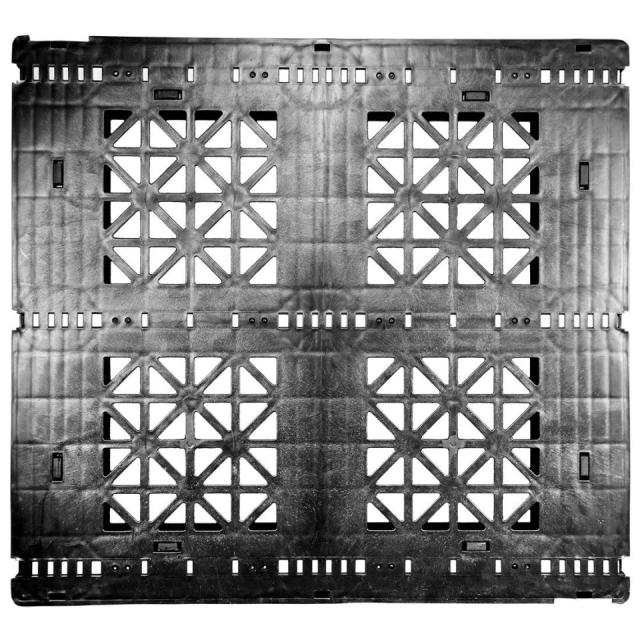non-igps: (9, 34, 631, 606)
